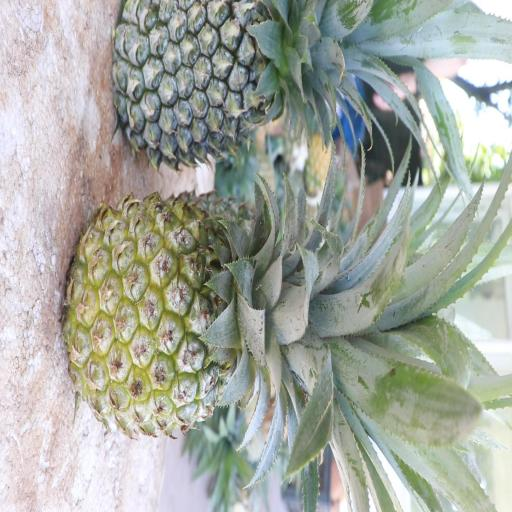------------------------------: (60, 187, 355, 438)
